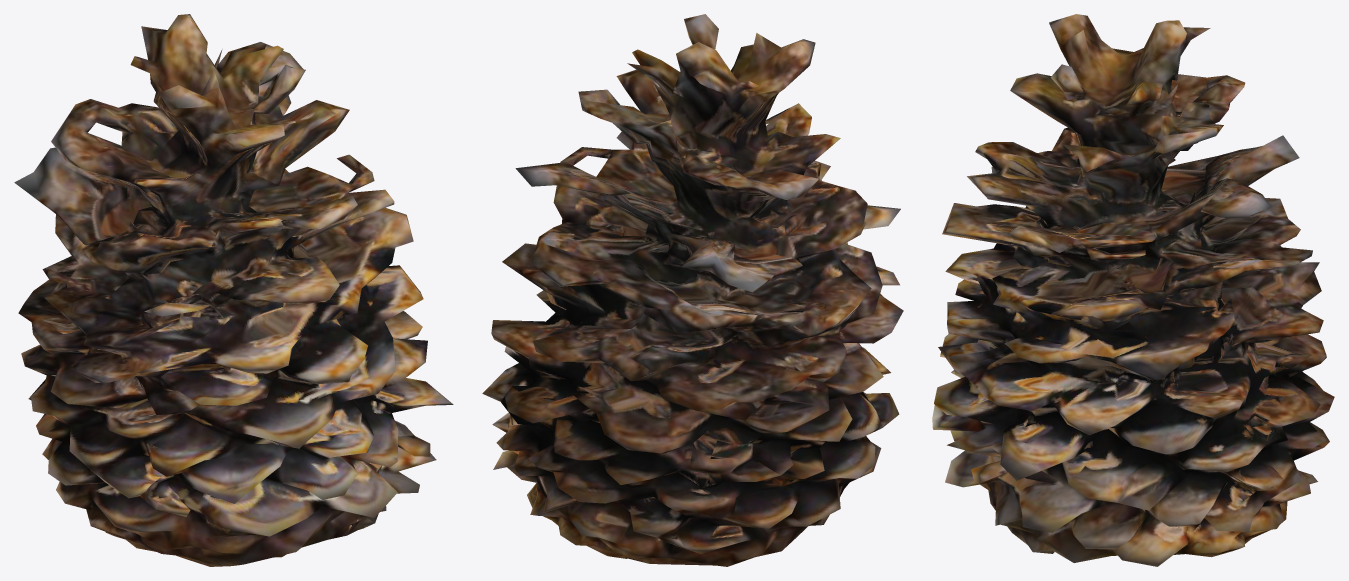
The model's file is 924b30ff4fa3_pine_cone_min.fbx.
The picture shows the model from 3 angles, left to right: view 1: azimuth 30°, elevation 25°; view 2: azimuth 150°, elevation 25°; view 3: azimuth 270°, elevation 25°; orthographic projection. The views are drawn at different scales.
Parts seen in each view (by area): view 1: mesh; view 2: mesh; view 3: mesh.
Boxes of the visible parts, x1,y1,x2,y2 form: mesh: [14, 14, 453, 566]; mesh: [482, 14, 903, 566]; mesh: [932, 14, 1334, 566].
Size of the model in its own units: 71.99 by 100 by 72.7.
